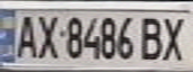4: (81, 13, 100, 60)
6: (115, 14, 139, 61)
8: (63, 12, 84, 60), (100, 14, 121, 61)
A: (9, 10, 39, 61)
B: (136, 14, 166, 62)
X: (157, 14, 193, 62), (33, 11, 60, 61)
